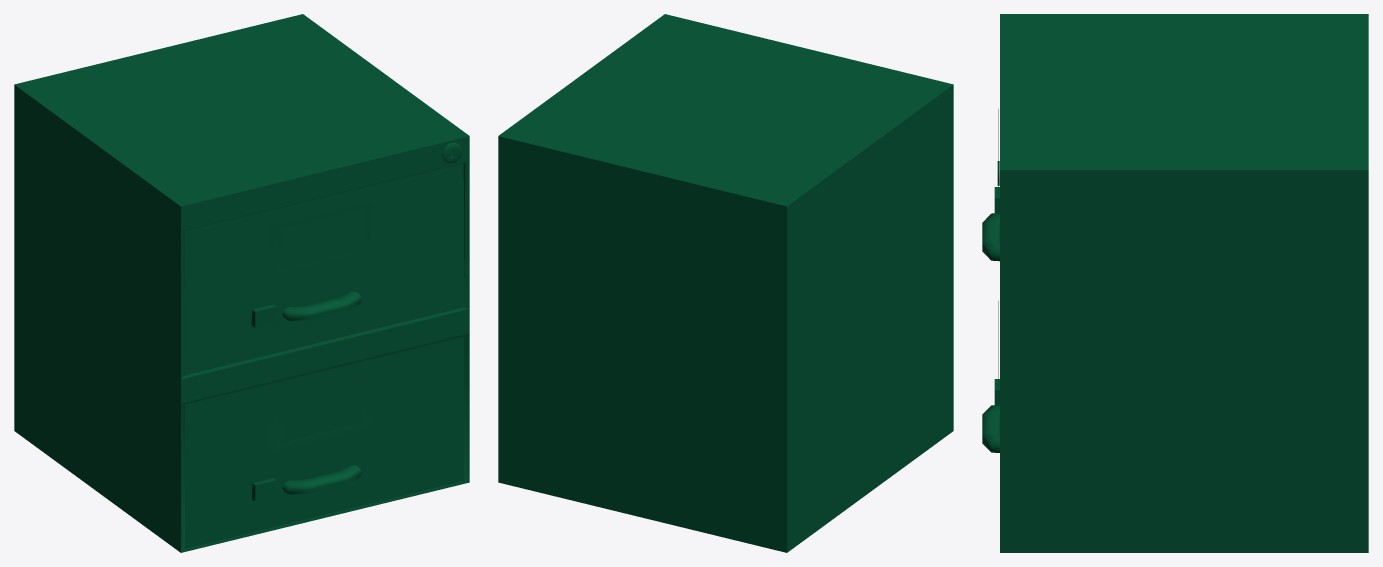
File: small.fbx
3 views of the same model, side by side, from view 1: azimuth 30°, elevation 25°; view 2: azimuth 150°, elevation 25°; view 3: azimuth 270°, elevation 25° (orthographic). The views are drawn at different scales.
Parts seen in each view (by area): view 1: small; view 2: small; view 3: small.
Boxes of the visible parts, x1=… form: small: x1=14, y1=14, x2=469, y2=552; small: x1=498, y1=14, x2=953, y2=552; small: x1=982, y1=14, x2=1368, y2=552.
Size of the model in its own units: 74.59 by 85.48 by 78.15.
